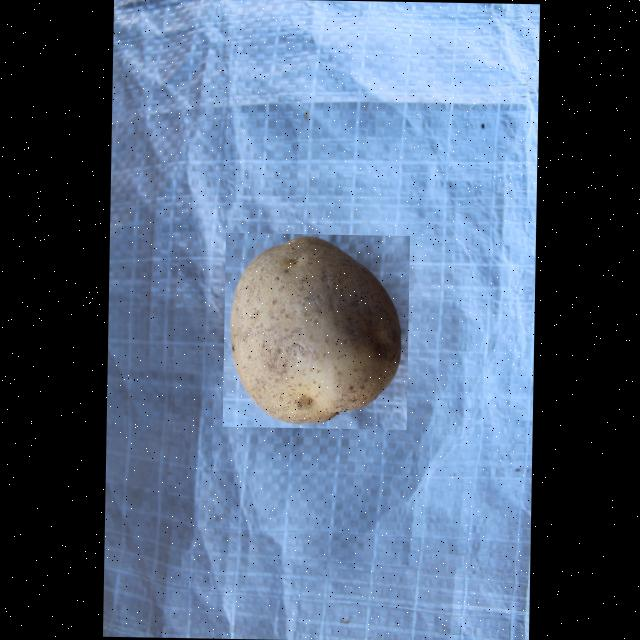Diseased-fungal potato: (222, 232, 408, 430)
